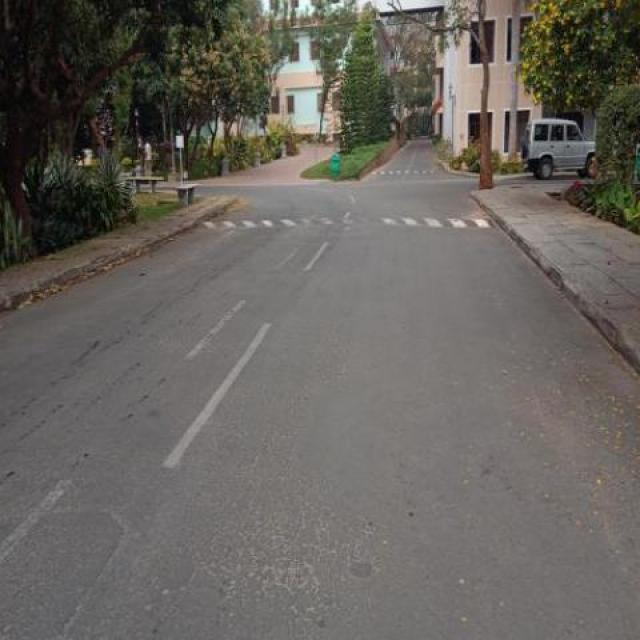Speed Bump: (195, 209, 494, 232)
